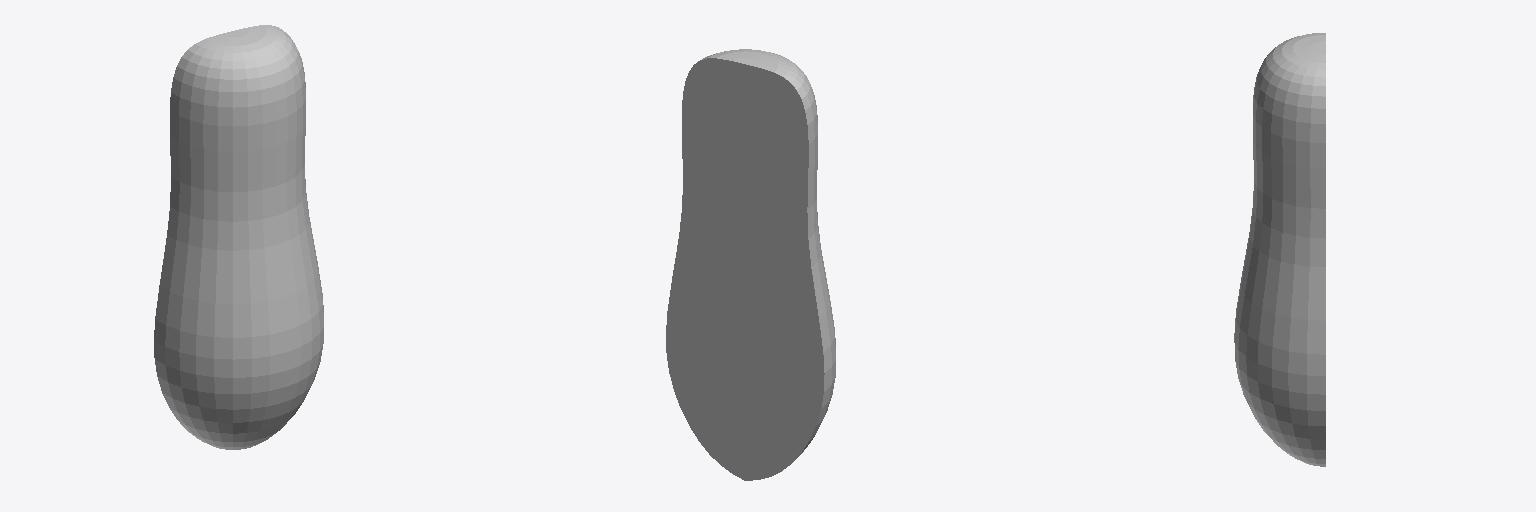
The model's file is foot.obj.
3 views of the same model, side by side, from view 1: azimuth 30°, elevation 25°; view 2: azimuth 150°, elevation 25°; view 3: azimuth 270°, elevation 25° (orthographic).
Visible parts, largest first — view 1: Object__0; view 2: Object__1, Object__0; view 3: Object__0.
Part boxes in pixels (x1,y1,x2,y2): Object__0: (154, 25, 323, 449); Object__1: (666, 58, 824, 480); Object__0: (702, 49, 835, 458); Object__0: (1234, 33, 1325, 466).
Bounding box in the file's own units: 0.1076 × 0.27 × 0.0535.